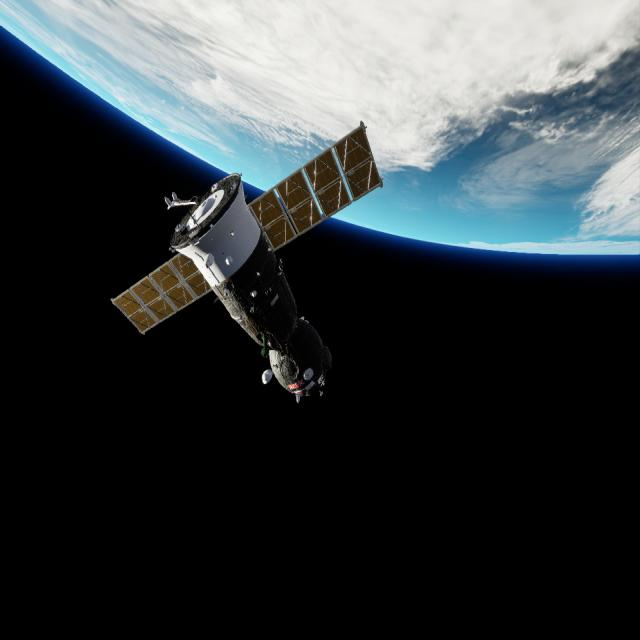Satellites revolving around earth: (109, 118, 385, 406)
